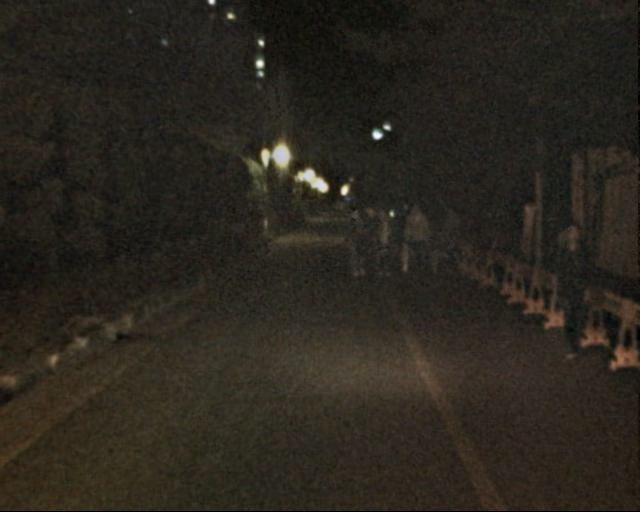person: (539, 218, 595, 355), (400, 199, 433, 280), (438, 203, 467, 273), (342, 207, 371, 277), (367, 207, 395, 276), (422, 215, 447, 277), (385, 208, 410, 268)
